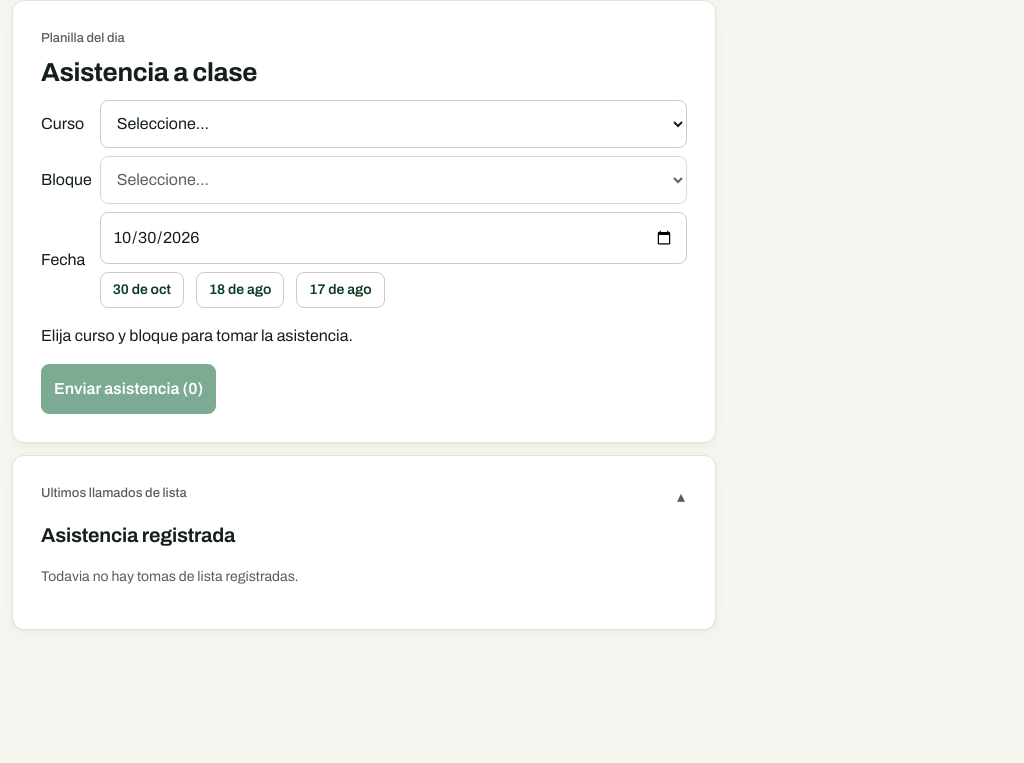
Test case: TomarAsistencia › enviar con conexion confirma que la lista llego al servidor
Expected: the dropdown labelled "Curso" is shown, [100,100,687,148]
Type "2026-08-17" into the date field labelled "Fecha". click: (393, 238)
box: [100,212,687,264]
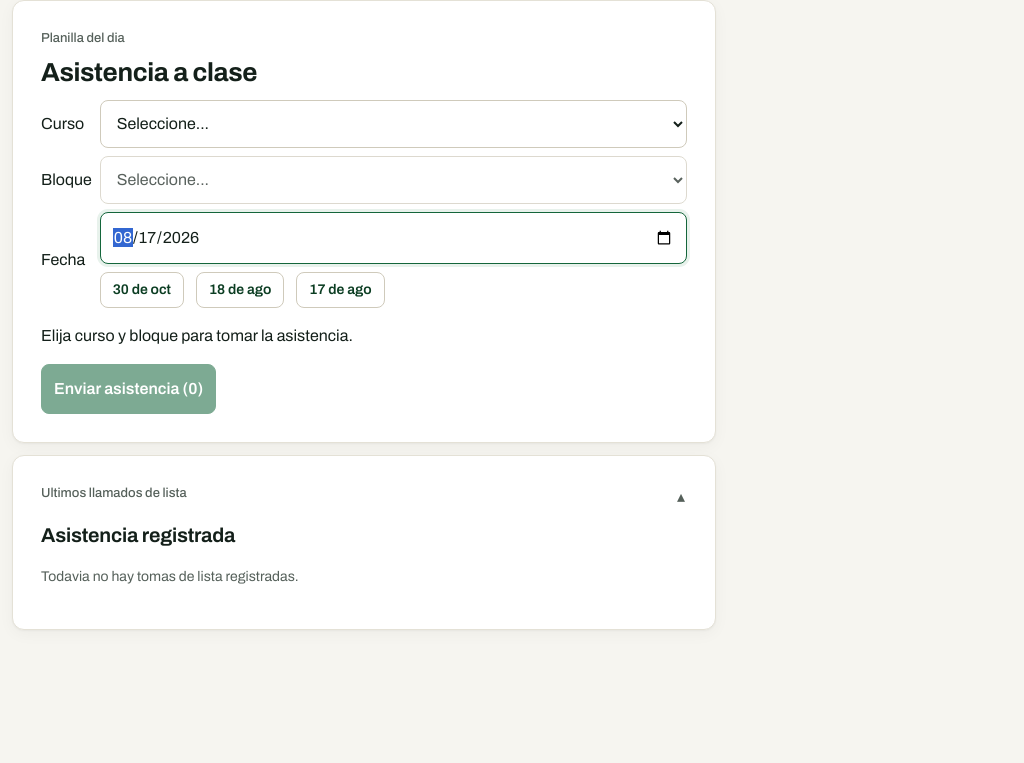
Select "601" in the dropdown labelled "Curso". click: (393, 124)
box: [100,100,687,148]
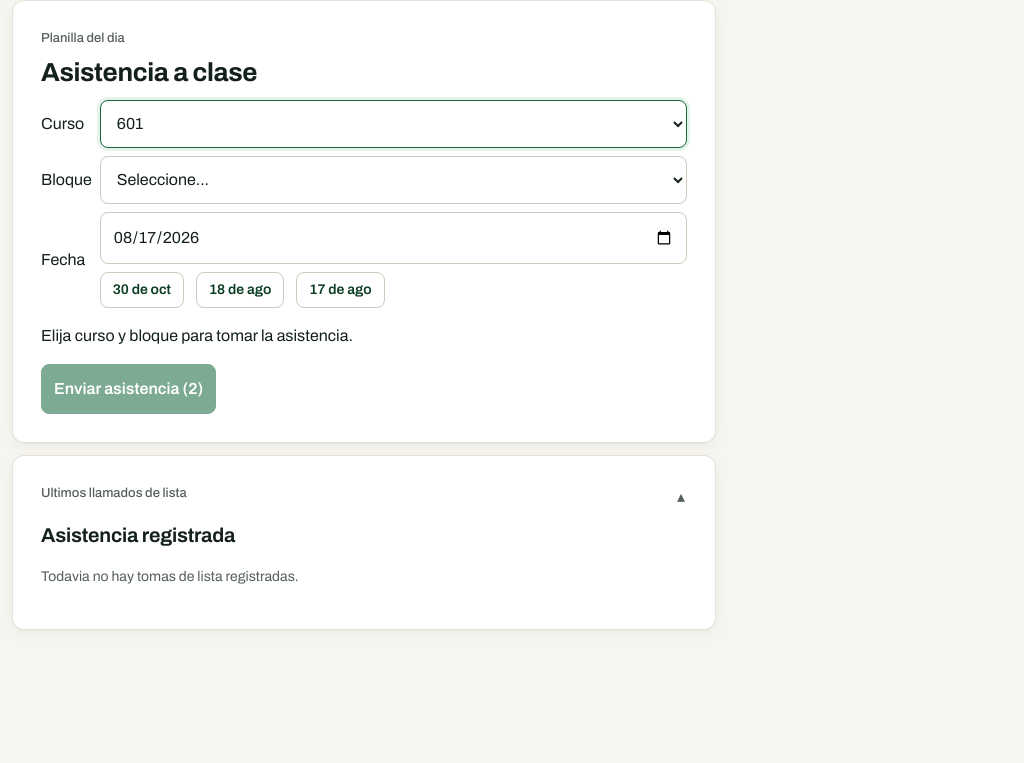
Result: the dropdown labelled "Bloque" is enabled
Select "4. Ciencias (09:00) · Dia 1" in the dropdown labelled "Bloque". click: (393, 180)
box: [100,156,687,204]
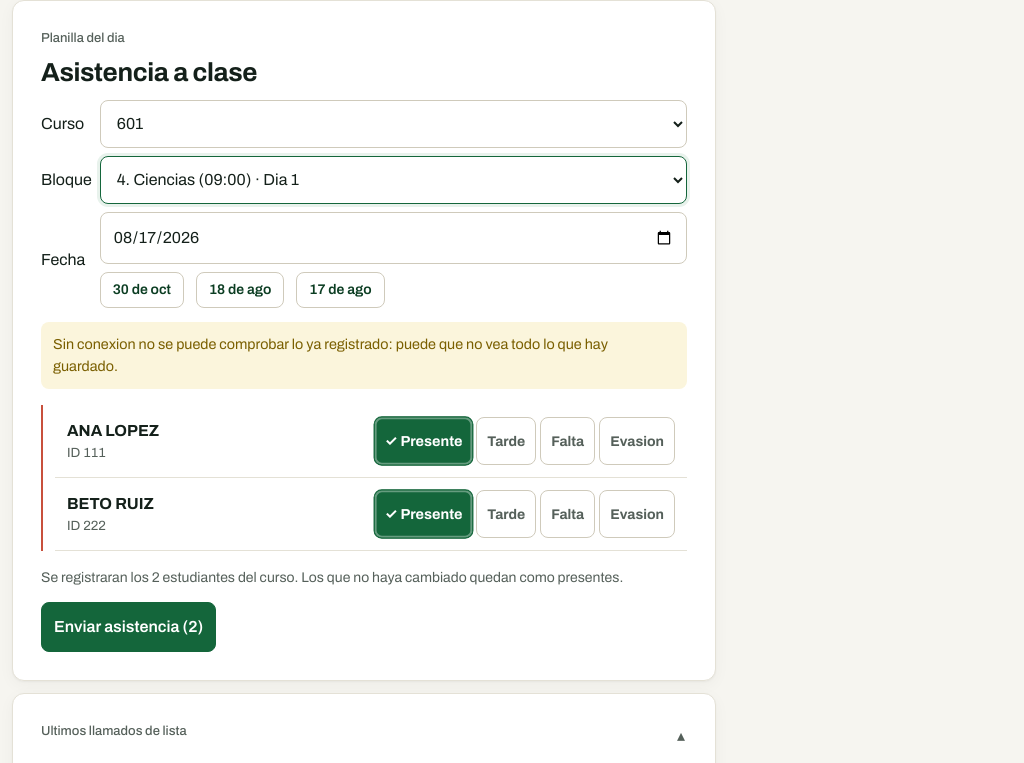
Result: the text "ANA LOPEZ" is shown at [67,422,159,439]
Click the button "Enviar asistencia (2)". click: (129, 627)
box: [41,602,216,652]
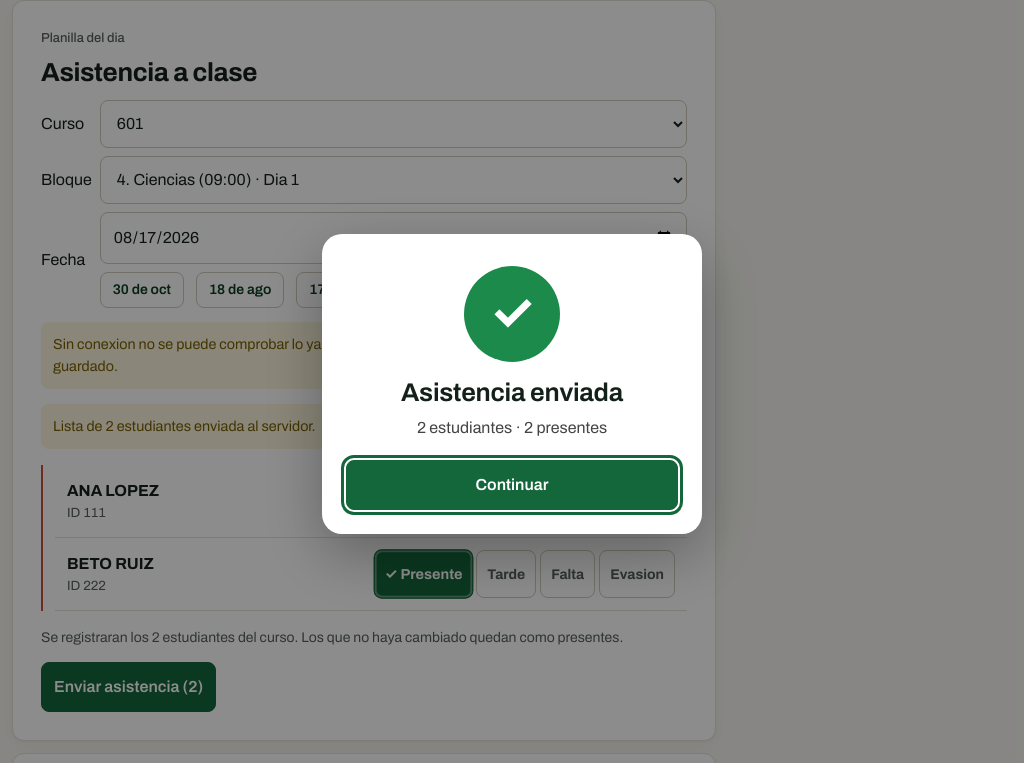
Result: the text "Lista de 2 estudiantes enviada al servidor." is shown at [41,404,687,449]
Result: the dialog shows "Asistencia enviada" at [401,379,623,406]
